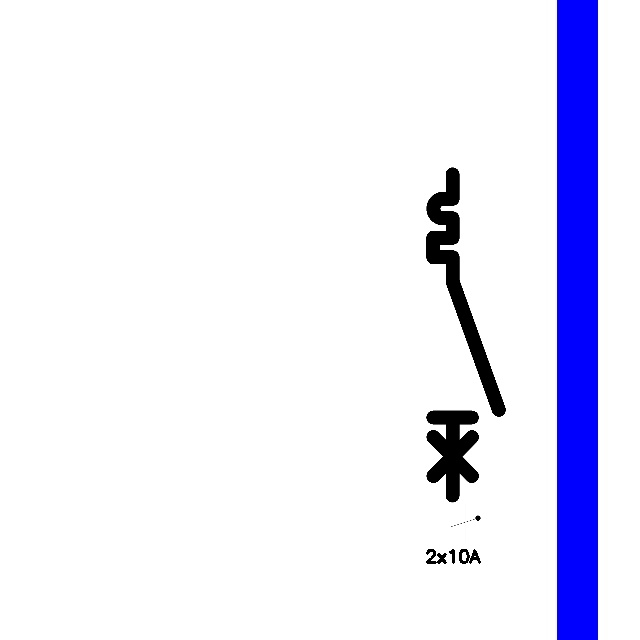interruptor_termomagnetico: (425, 166, 507, 503)
